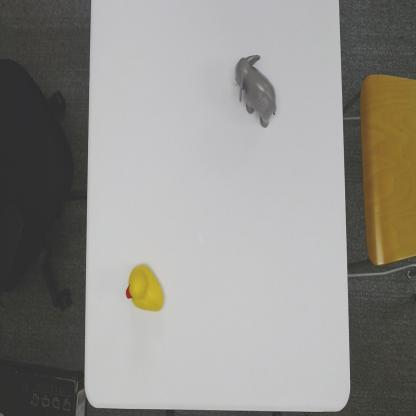Duck: (125, 260, 165, 313)
Elephant: (233, 52, 278, 130)
